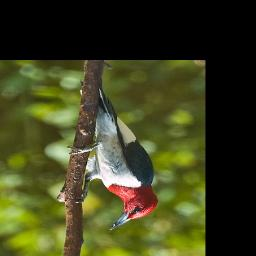Woodpecker: (68, 82, 159, 229)
